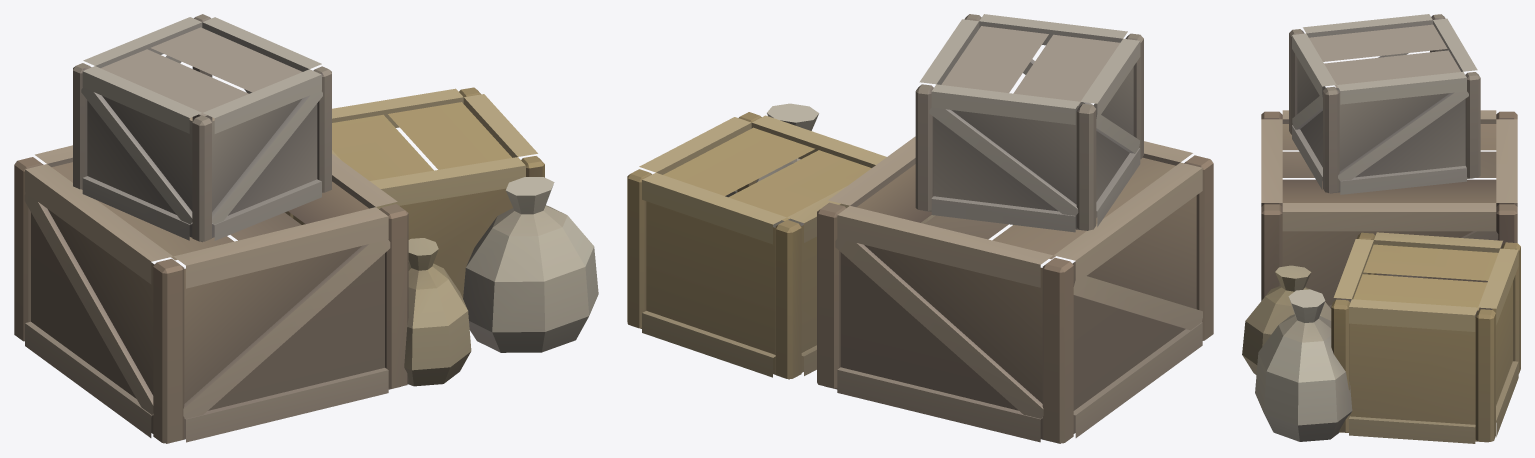
The picture shows the model from 3 angles, left to right: view 1: azimuth 30°, elevation 25°; view 2: azimuth 150°, elevation 25°; view 3: azimuth 270°, elevation 25°; orthographic projection. The views are drawn at different scales.
Bounding box in the file's own units: 1.94 × 1.22 × 1.22.
